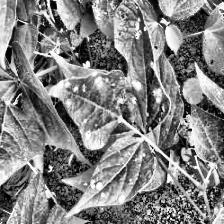Bean Rust: (54, 54, 131, 154), (66, 136, 155, 220), (134, 16, 180, 130)
